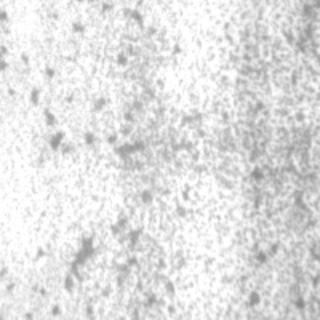pitted_surface: (18, 2, 316, 314)
